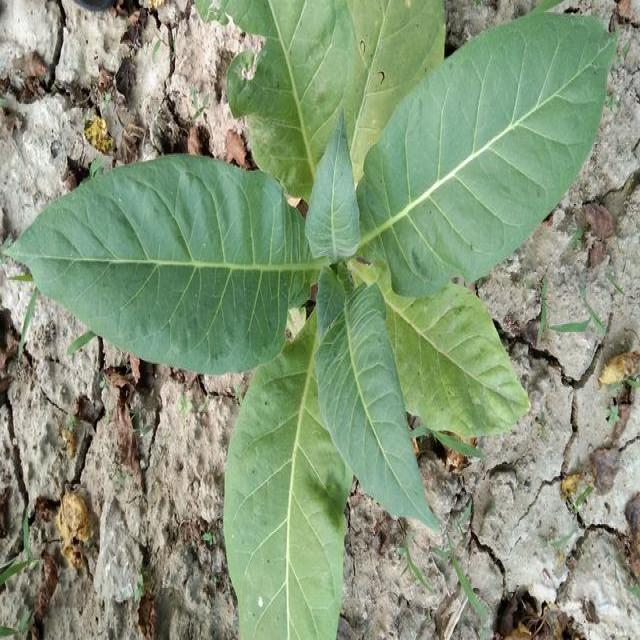crop: (58, 0, 586, 640)
